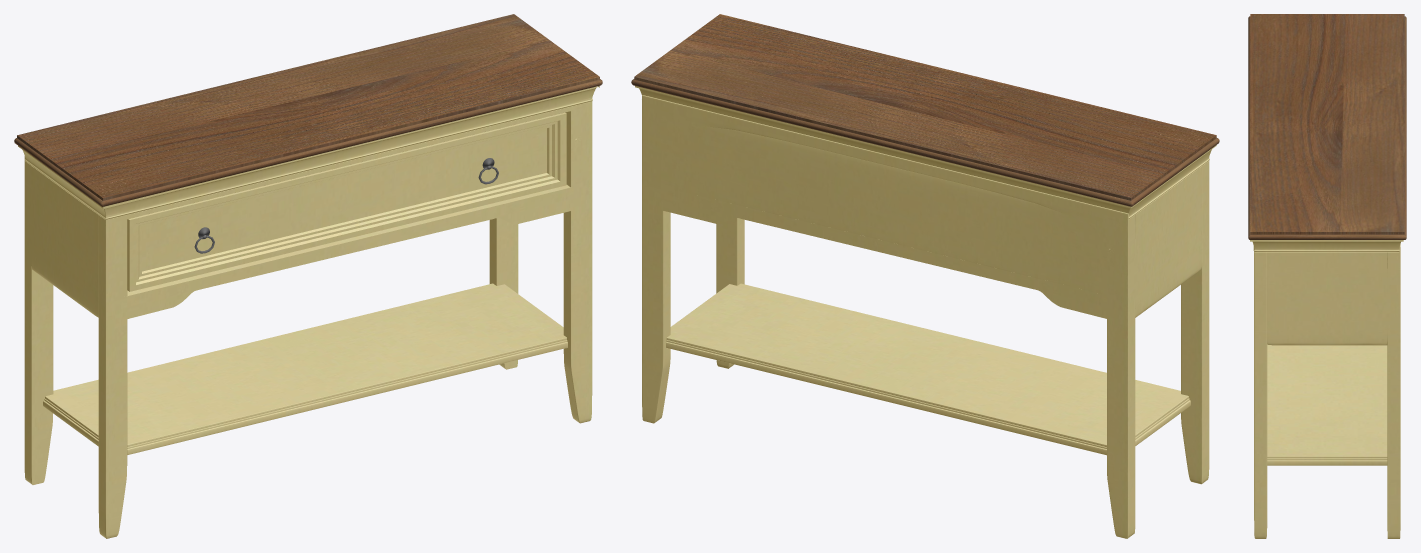
3 views of the same model, side by side, from view 1: azimuth 30°, elevation 25°; view 2: azimuth 150°, elevation 25°; view 3: azimuth 270°, elevation 25° (orthographic). The views are drawn at different scales.
Visible parts, largest first — view 1: столешница, ID70, полка, ID23, ID13, ID63, ID59; view 2: ID13, столешница, ID70, ID23, ID63, ID59; view 3: столешница, ID13, ID70, ID23, ID59.
Boxes of the visible parts, x1,y1,x2,y2 form: столешница: (14, 14, 602, 206); ID70: (43, 283, 567, 454); полка: (127, 112, 566, 291); ID23: (98, 97, 592, 538); ID13: (24, 156, 518, 484); ID63: (124, 185, 571, 319); ID59: (18, 86, 599, 219); ID13: (642, 95, 1202, 538); столешница: (631, 14, 1219, 206); ID70: (666, 283, 1190, 455); ID23: (716, 157, 1209, 484); ID63: (662, 187, 1108, 318); ID59: (635, 86, 1216, 218); столешница: (1248, 14, 1406, 239); ID13: (1267, 244, 1400, 538); ID70: (1267, 344, 1387, 465); ID23: (1254, 248, 1267, 538); ID59: (1250, 240, 1403, 252).
Bounding box in the file's own units: 0.426 × 0.2793 × 0.1295.
3 materials, 2 textured.
